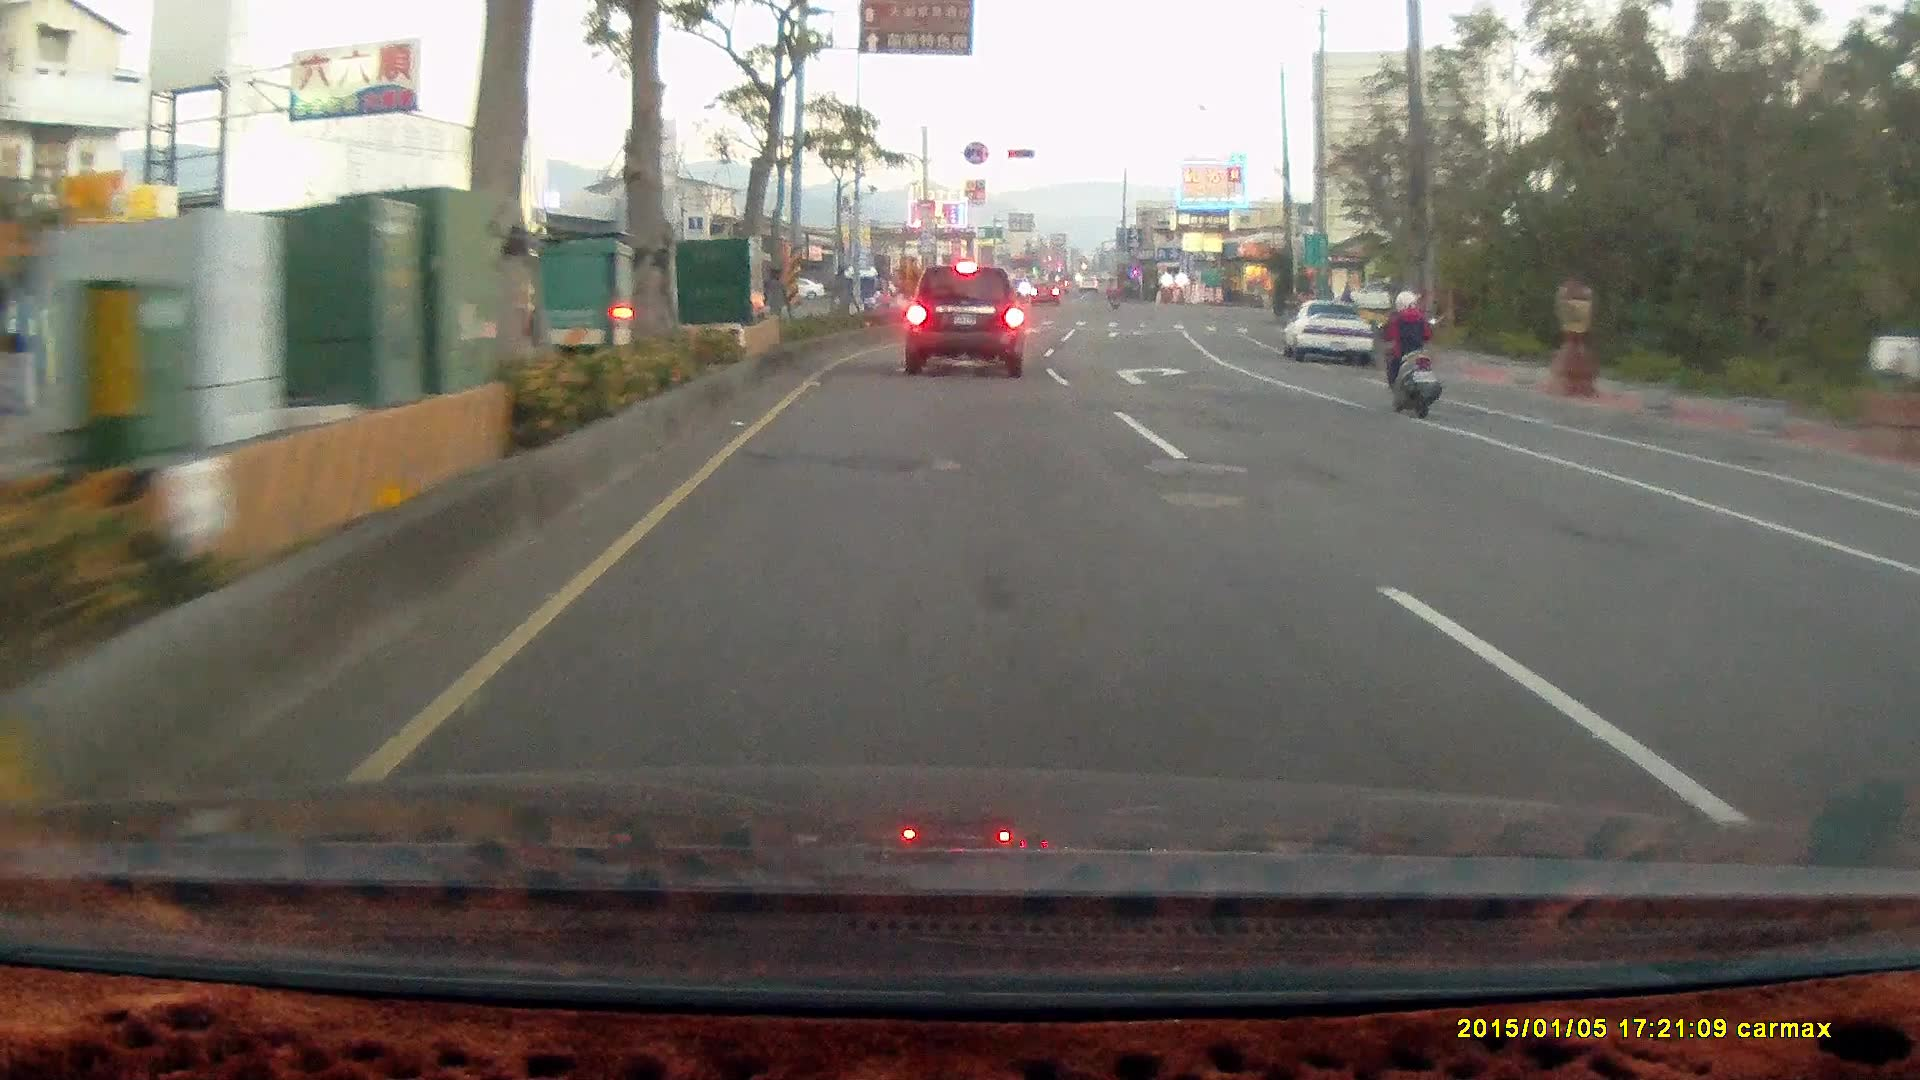rider: (1369, 285, 1442, 419)
vehicle: (902, 264, 1023, 379), (1896, 493, 1920, 836), (1279, 297, 1374, 366), (1284, 299, 1375, 369), (1883, 528, 1920, 690), (1327, 278, 1407, 314)
